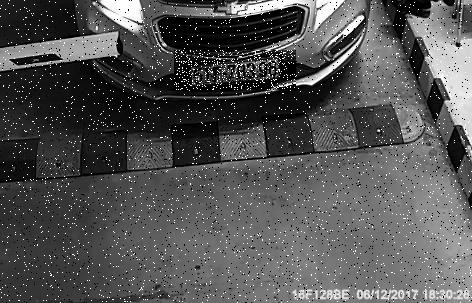License-plate: (175, 52, 297, 92)
